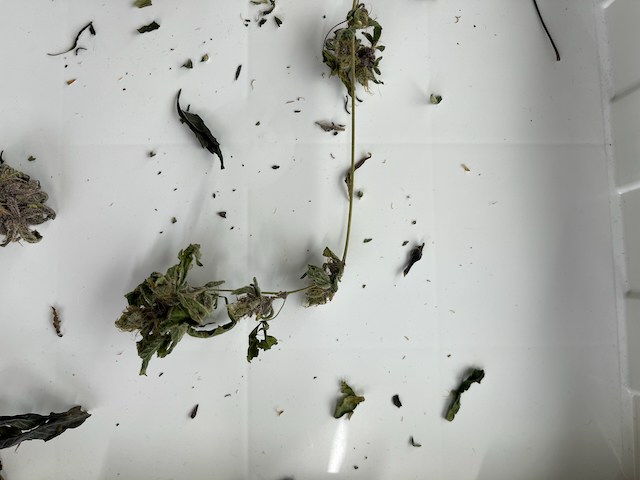Bud: (114, 271, 216, 343), (0, 164, 51, 246), (327, 31, 380, 91), (303, 266, 341, 308), (231, 294, 274, 322), (343, 5, 374, 30)
